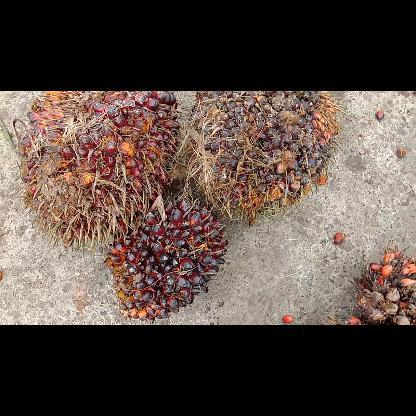Kurang masak: (192, 91, 338, 219), (106, 198, 226, 324)
TBS masak: (18, 90, 184, 248)
